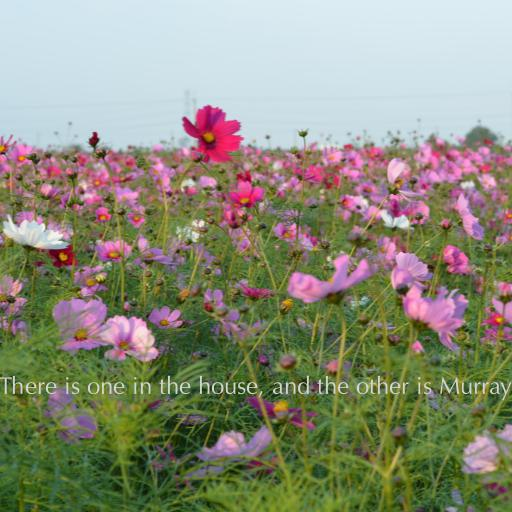Optima: (0, 375, 512, 401)
